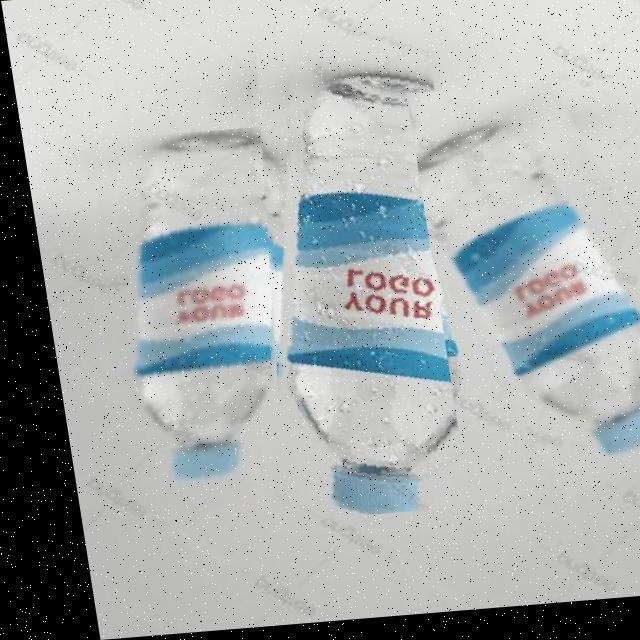litter: (209, 29, 480, 524), (401, 83, 640, 502), (68, 129, 306, 510), (299, 425, 460, 518), (132, 421, 271, 517), (505, 403, 627, 482)
